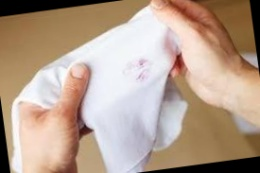lipstick: (118, 54, 153, 85)
